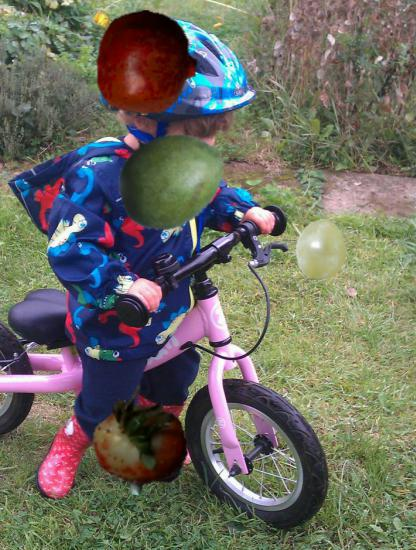Grape: (291, 219, 352, 280)
Mango: (114, 121, 228, 235)
Pomegranate: (94, 10, 200, 116)
Strawberry: (87, 386, 196, 495)
